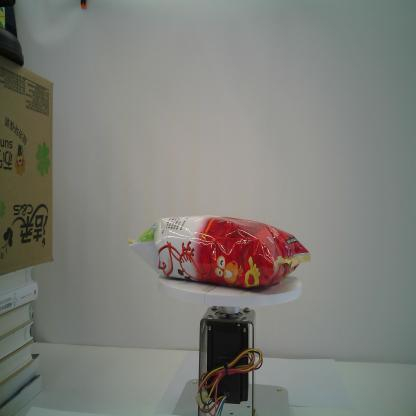Puffed Food: (126, 212, 314, 291)
